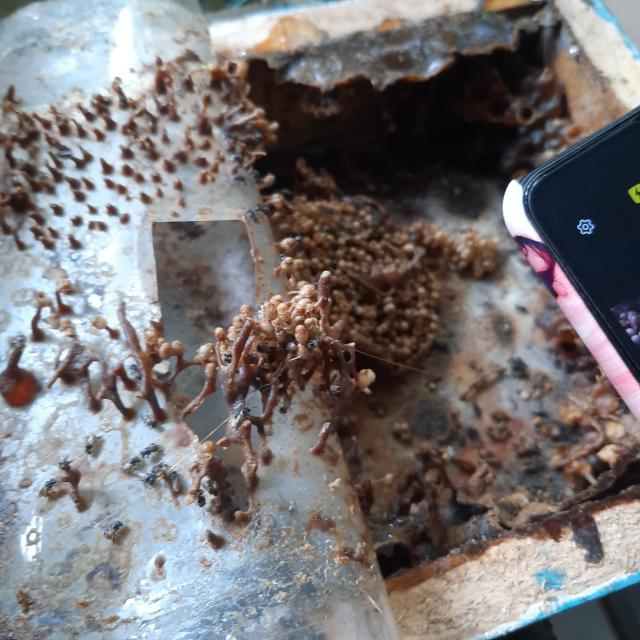honeybee: (325, 363, 348, 395), (276, 386, 300, 414), (39, 475, 65, 500), (141, 461, 165, 487), (231, 404, 251, 432), (102, 519, 126, 542), (228, 170, 255, 190), (120, 454, 142, 477), (139, 440, 163, 460), (307, 331, 332, 349), (192, 483, 208, 511), (167, 470, 184, 496), (229, 150, 250, 171), (259, 344, 279, 366), (221, 130, 240, 153), (84, 433, 102, 456), (48, 146, 75, 161), (57, 453, 77, 473), (252, 130, 268, 154), (245, 210, 261, 227), (220, 347, 232, 368), (131, 362, 144, 381)
